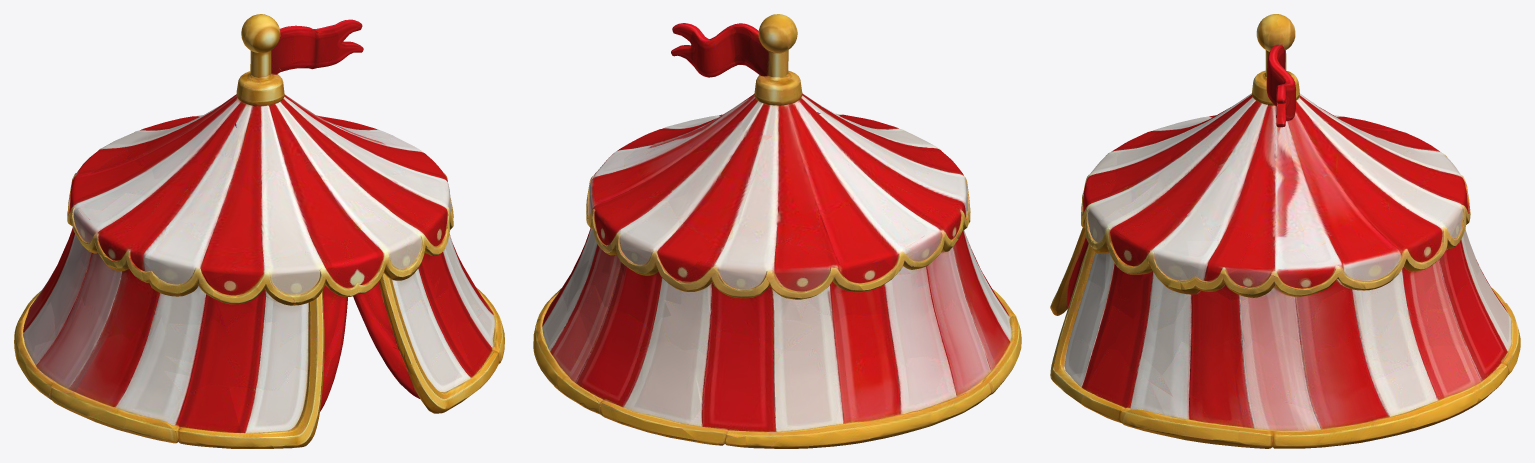
The model's file is sym-tent.glb.
3 views of the same model, side by side, from view 1: azimuth 30°, elevation 25°; view 2: azimuth 150°, elevation 25°; view 3: azimuth 270°, elevation 25° (orthographic).
Parts seen in each view (by area): view 1: output_unwrapped; view 2: output_unwrapped; view 3: output_unwrapped.
Part boxes in pixels (<box>): output_unwrapped: <box>14,14,504,448</box>; output_unwrapped: <box>533,14,1021,448</box>; output_unwrapped: <box>1050,14,1520,448</box>.
Size of the model in its own units: 1.9 by 1.42 by 1.83.
1 material, 1 textured.
